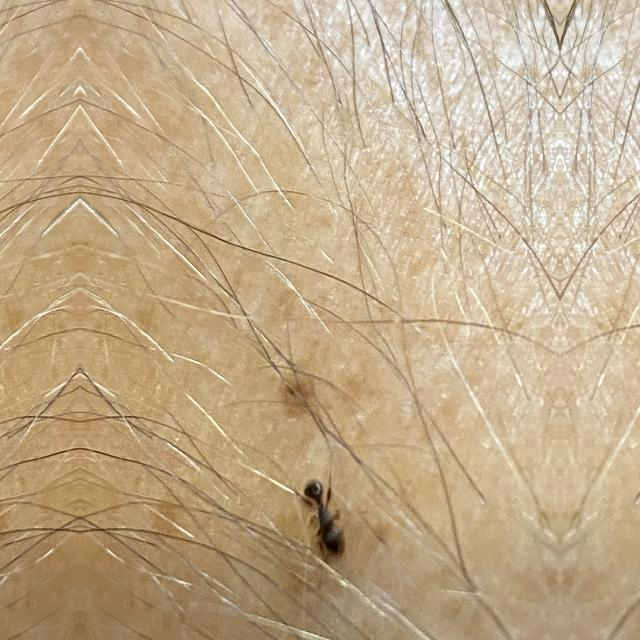Tetramorium: (286, 463, 364, 571)
